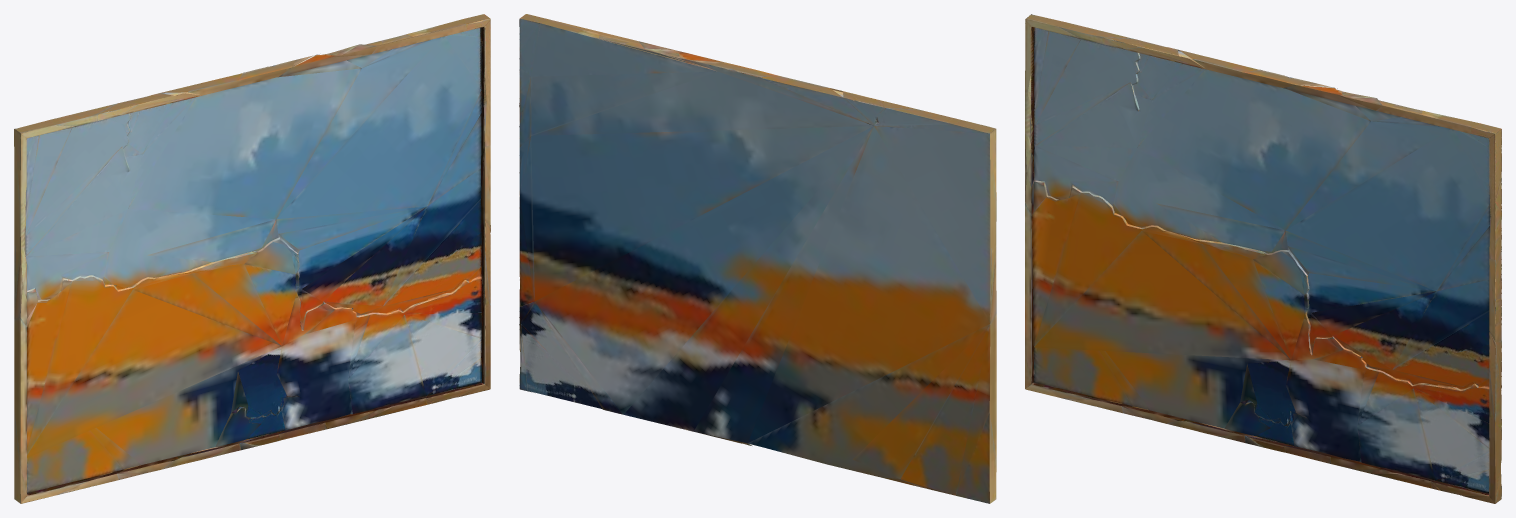
The model's file is wall-art-v1.glb.
3 views of the same model, side by side, from view 1: azimuth 30°, elevation 25°; view 2: azimuth 150°, elevation 25°; view 3: azimuth 330°, elevation 25° (orthographic).
Bounding box in the file's own units: 1.8 × 1.36 × 0.0453.
1 material, 1 textured.
